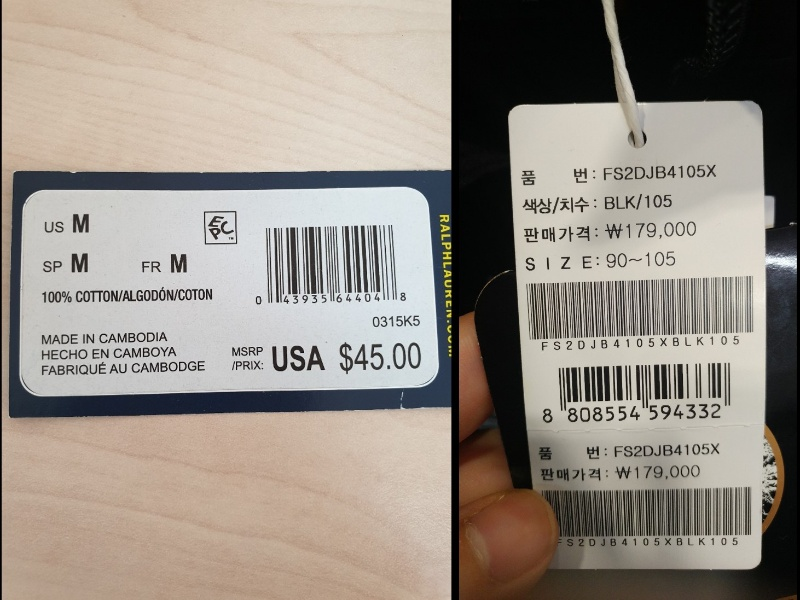tag: (507, 95, 763, 574), (8, 168, 451, 420)
text: (39, 285, 214, 308), (524, 249, 678, 273), (562, 401, 725, 423), (539, 335, 743, 352), (337, 340, 423, 373), (37, 361, 209, 377), (563, 537, 740, 550), (39, 345, 182, 361), (612, 440, 722, 460), (601, 164, 720, 182), (40, 330, 169, 346), (614, 461, 705, 483), (269, 342, 329, 374), (604, 220, 700, 240), (521, 224, 601, 245), (521, 195, 597, 217), (520, 165, 597, 186), (602, 193, 675, 213), (538, 441, 610, 461), (538, 465, 610, 484), (279, 291, 384, 304), (42, 250, 92, 276), (140, 252, 190, 278), (229, 343, 268, 374), (41, 212, 93, 235), (370, 312, 423, 329)
